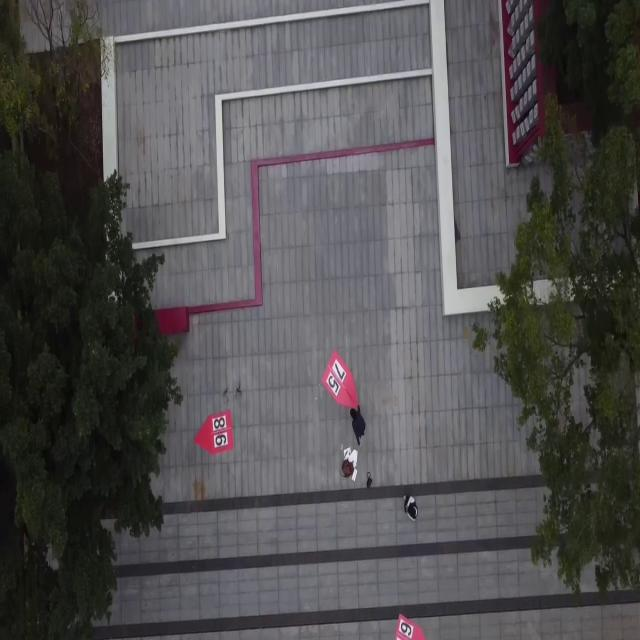-sign-: (319, 341, 365, 418), (193, 408, 234, 455)
